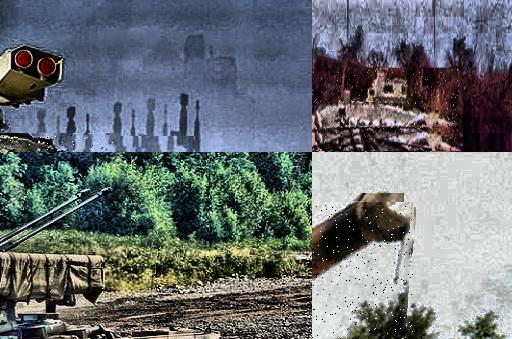tanks: (1, 189, 118, 339), (313, 70, 460, 142), (313, 203, 415, 283), (1, 47, 63, 107), (177, 332, 203, 339), (205, 333, 215, 339), (165, 332, 172, 339)
